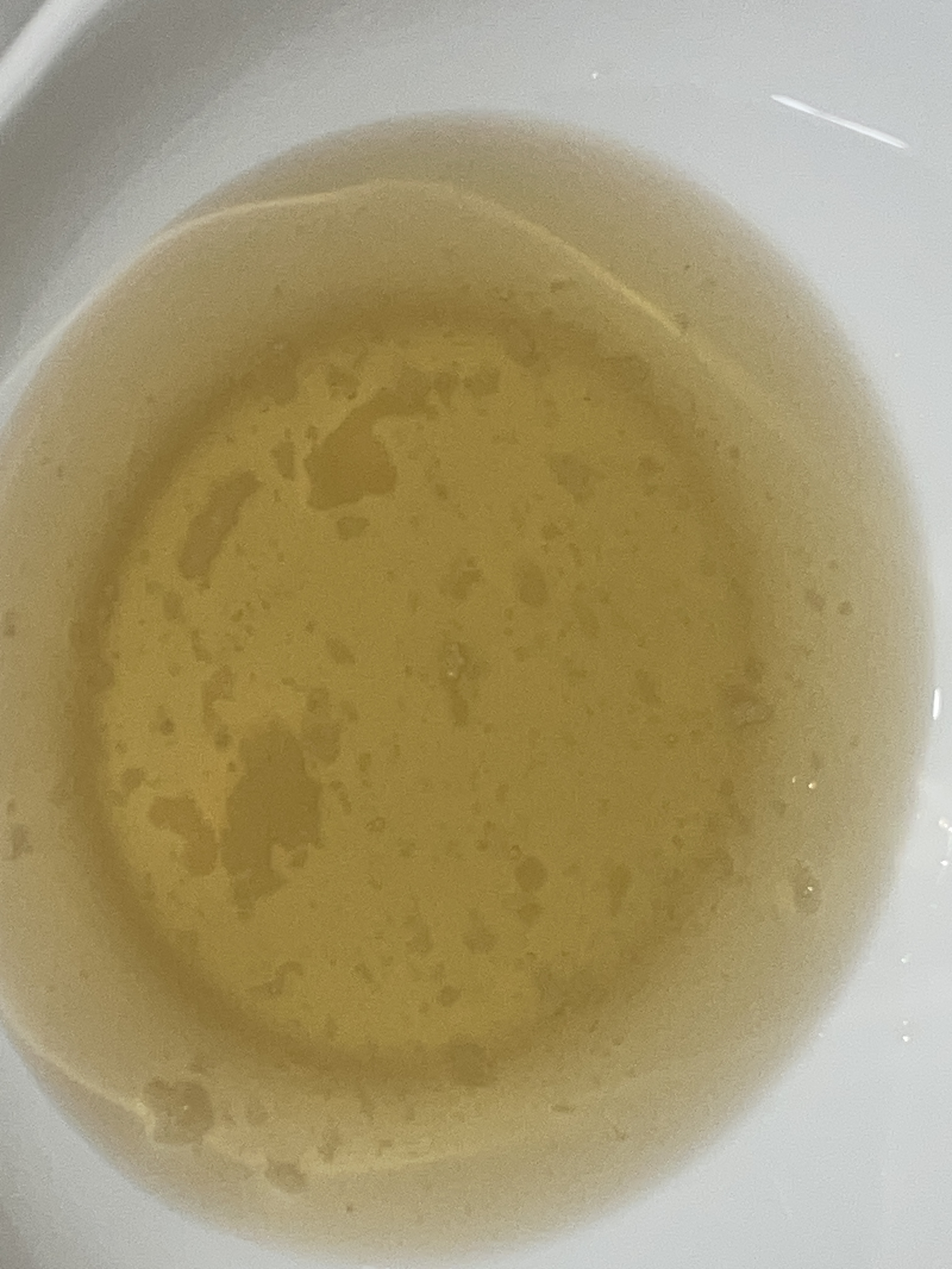reusable: (0, 116, 952, 1256)
